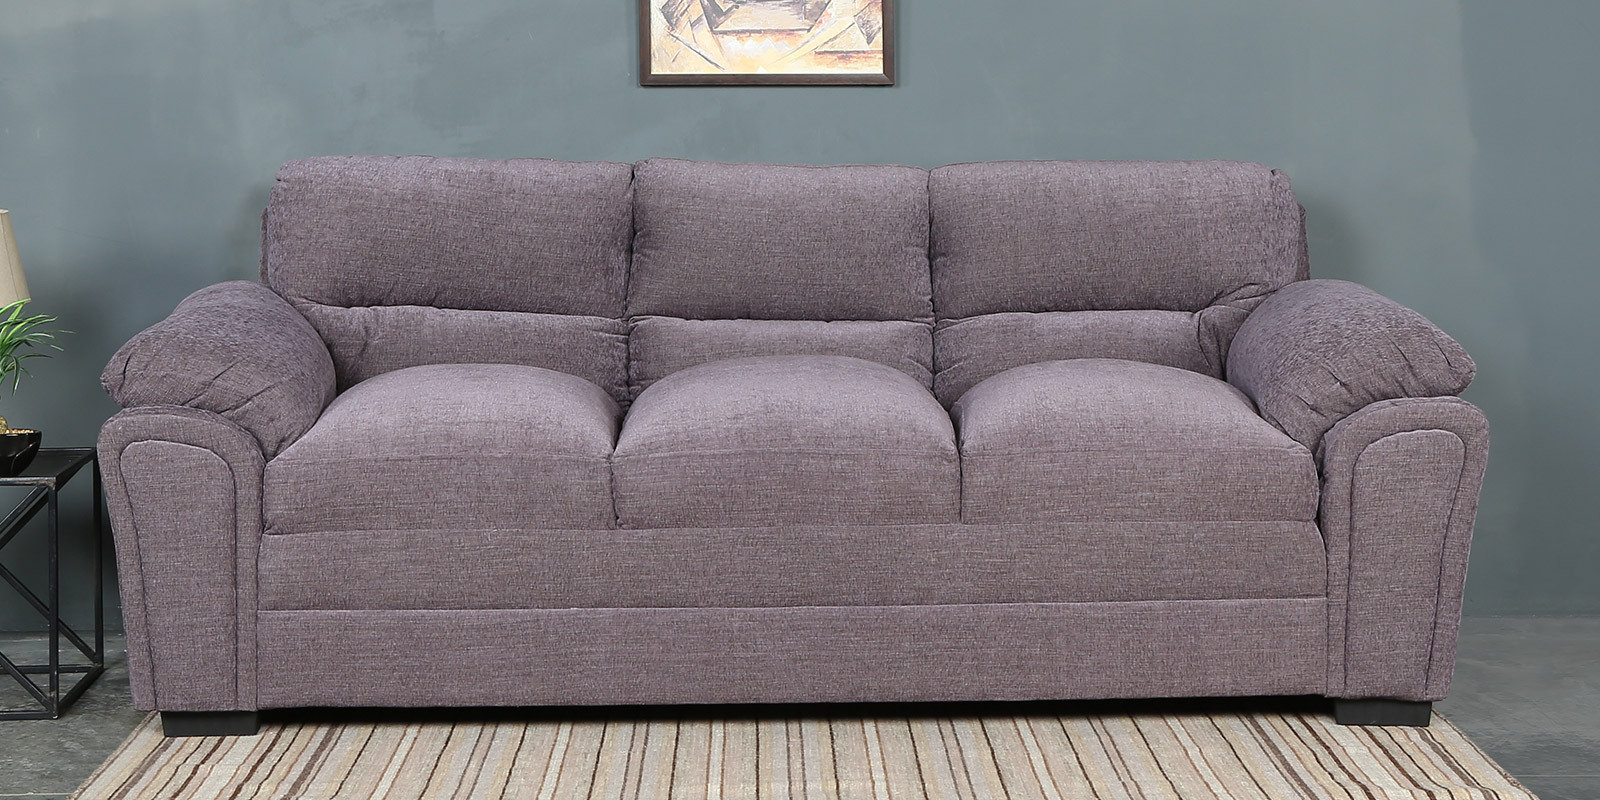Brass Three Seater Sofa in Dark Grey Colour by Furniture Mind: (100, 145, 1499, 757)
